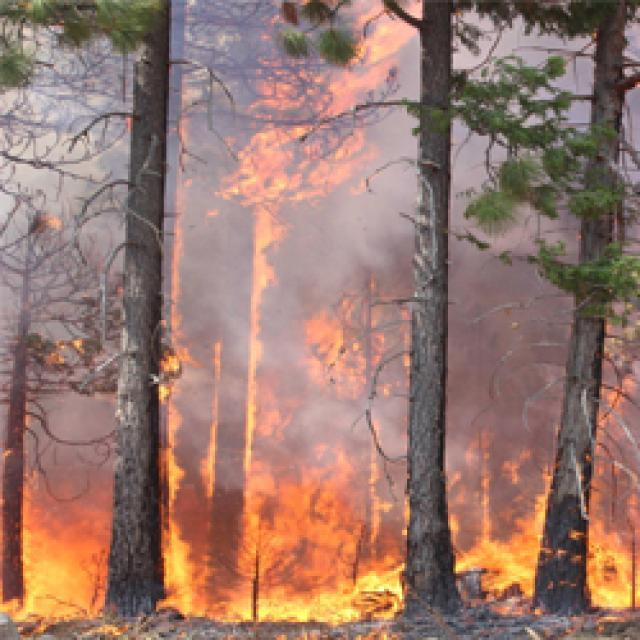Fire: (192, 0, 404, 228), (427, 425, 640, 624), (176, 496, 440, 630), (233, 158, 301, 536), (0, 427, 114, 639), (160, 314, 200, 634), (303, 292, 392, 412), (26, 199, 89, 277), (16, 318, 92, 380), (210, 302, 230, 515), (150, 328, 196, 414), (167, 132, 185, 348)
Smoke: (0, 0, 640, 545), (143, 0, 489, 466), (412, 0, 640, 413), (0, 0, 164, 336)
